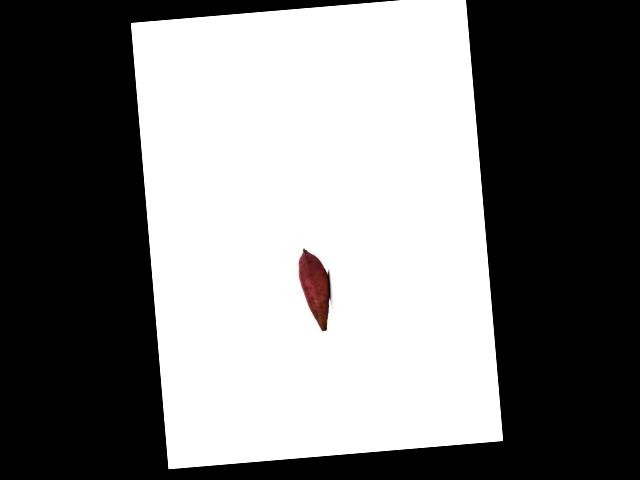sweet_potato: (297, 246, 331, 332)
